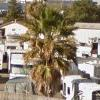Palm tree: (20, 5, 70, 88)
